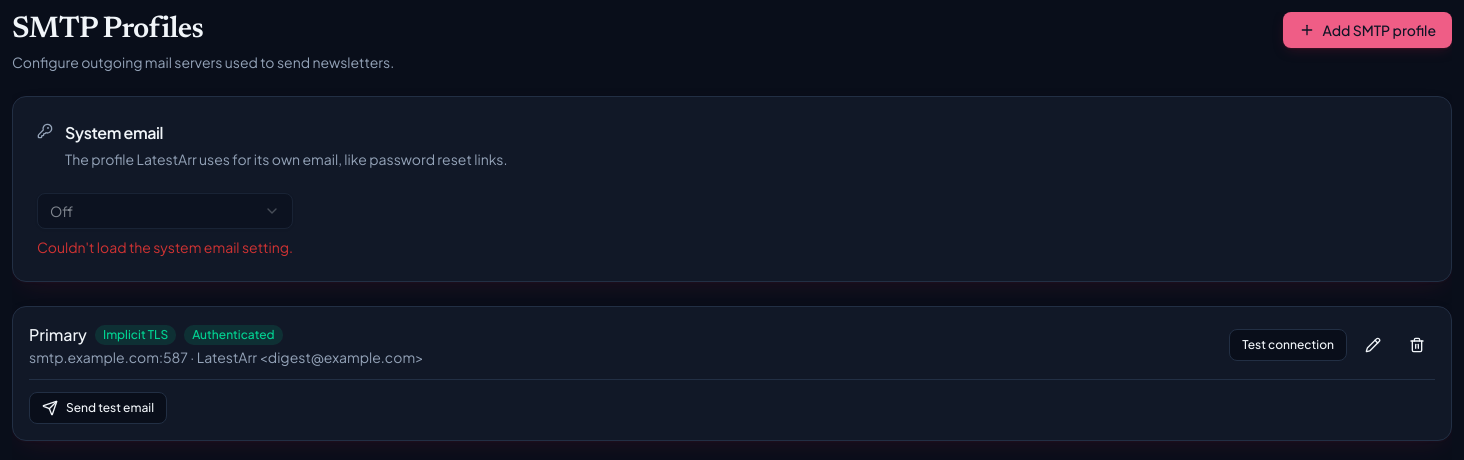
Scenario: SmtpProfilesPage › deletes a profile after confirmation
Expected: the text "Primary" is shown, 29,323 -> 87,347
What coordinates should you click on to do the following:
click the button named "Delete Primary"
I would click on:
 (1417, 345)
Its box is 1399,327 -> 1435,363.
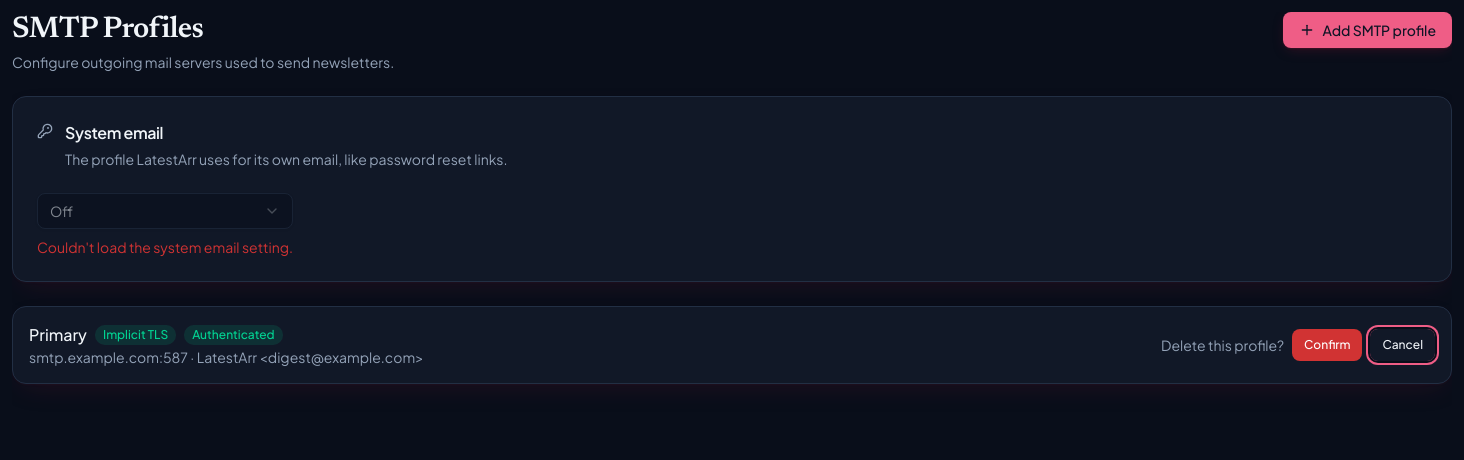
What coordinates should you click on to do the following:
click the button "Confirm"
I would click on:
 (1327, 345)
Its box is 1292,329 -> 1362,361.
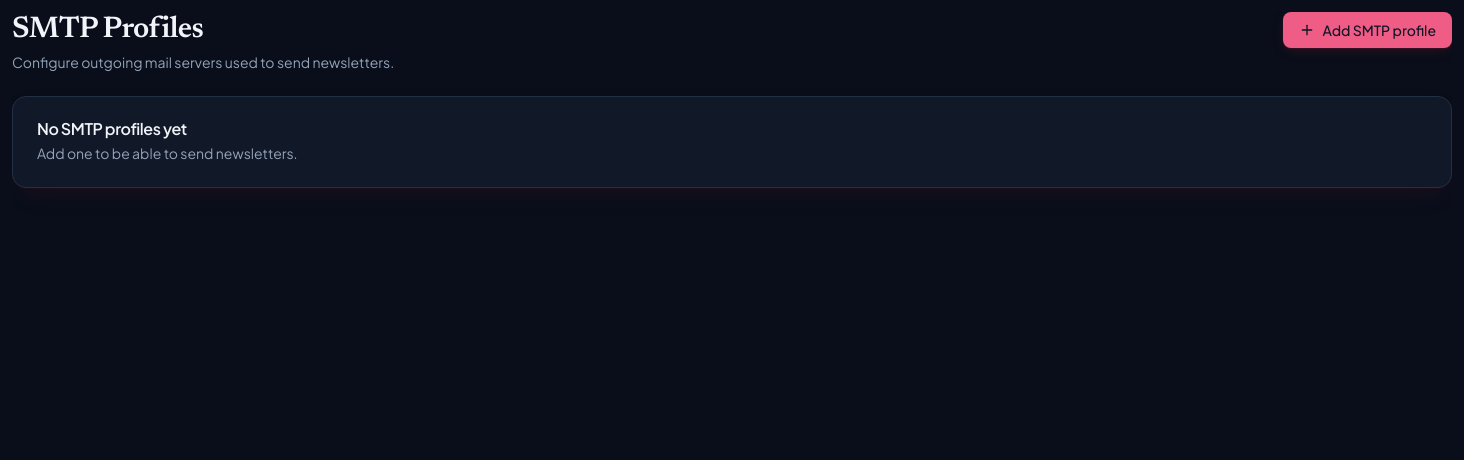
Result: the text "Primary" is gone
Result: the heading "No SMTP profiles yet" is shown at 37,118 -> 187,139
